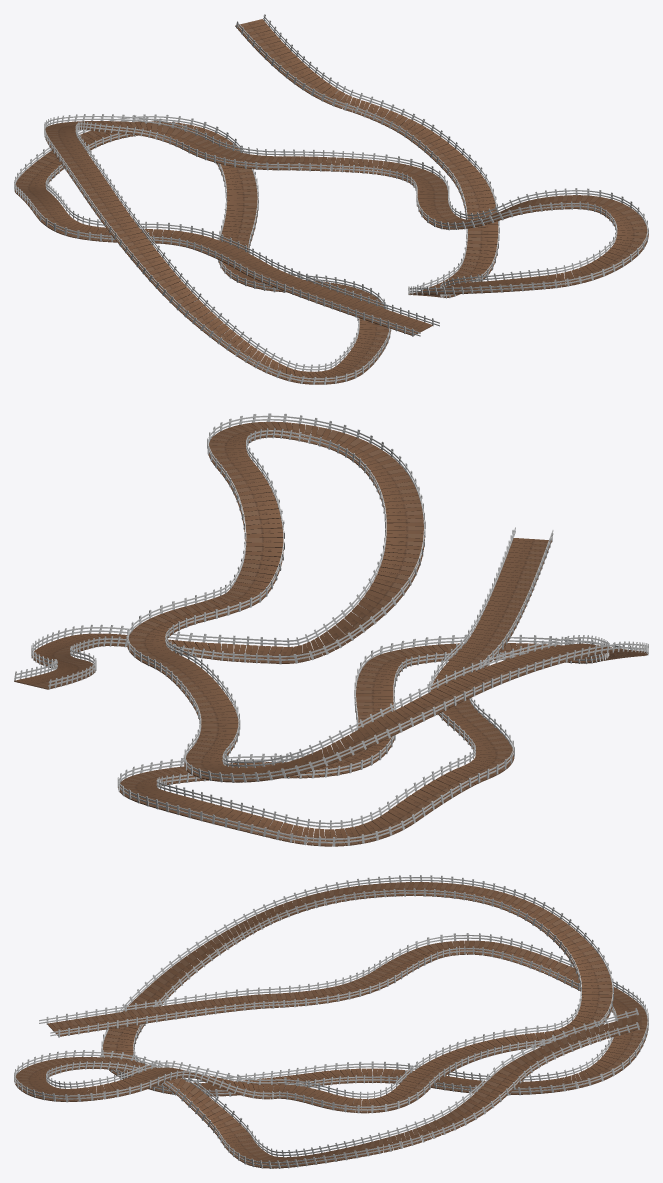
Rendered from PruebaCircuito.obj.
The picture shows the model from 3 angles, top to bottom: view 1: azimuth 30°, elevation 25°; view 2: azimuth 150°, elevation 25°; view 3: azimuth 270°, elevation 25°; orthographic projection. The views are drawn at different scales.
Visible parts, largest first — view 1: Plane.020, Cube.051, Cube.029; view 2: Plane.020, Cube.051, Cube.029; view 3: Plane.020, Cube.051, Cube.029.
Part boxes in pixels (x1,y1,x2,y2): Plane.020: [15, 19, 648, 384]; Cube.051: [14, 21, 648, 384]; Cube.029: [45, 14, 617, 371]; Plane.020: [14, 421, 648, 846]; Cube.051: [48, 413, 648, 846]; Cube.029: [14, 428, 610, 829]; Plane.020: [14, 882, 648, 1168]; Cube.051: [14, 875, 648, 1157]; Cube.029: [46, 888, 639, 1168].
Bounding box in the file's own units: 223 × 65.87 × 291.
